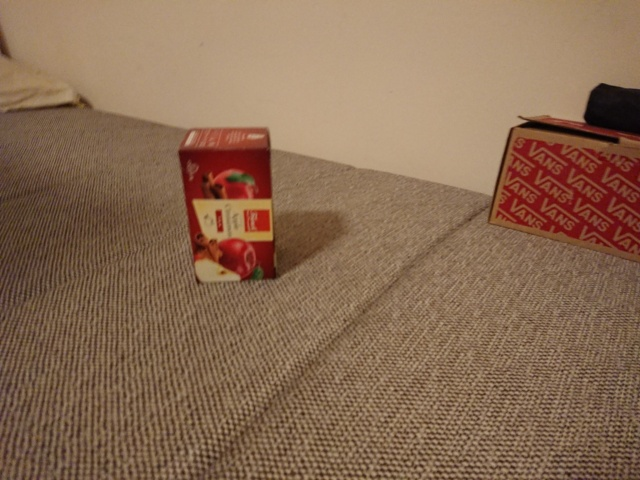Franck Apple Cinnamon Tea 60g: (174, 122, 281, 288)
